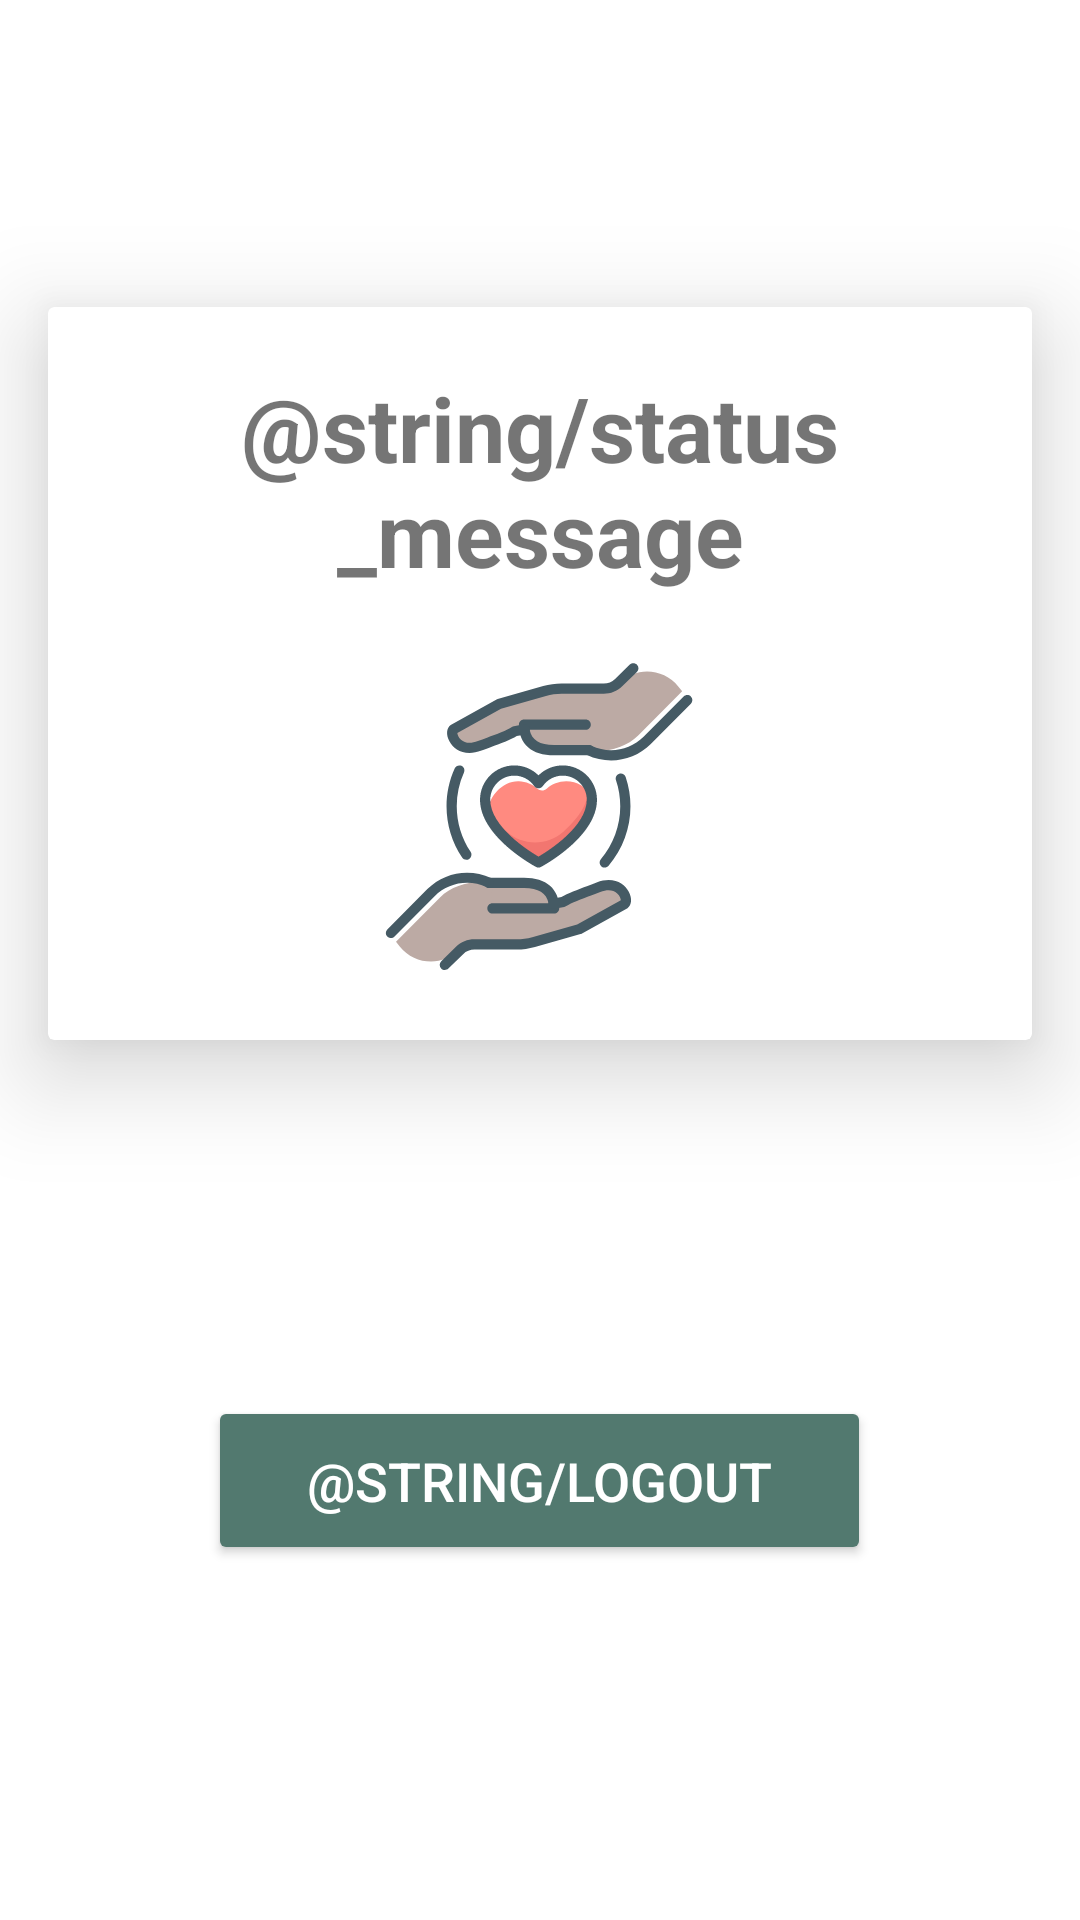

Icon click points for this 1080px×1920px phone screenshot, format (x,y):
health: (539,816)
